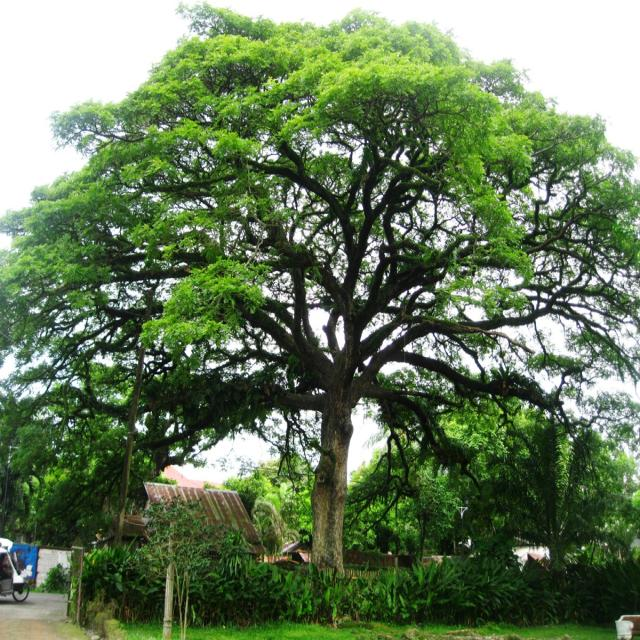Acacia: (10, 4, 635, 548)
